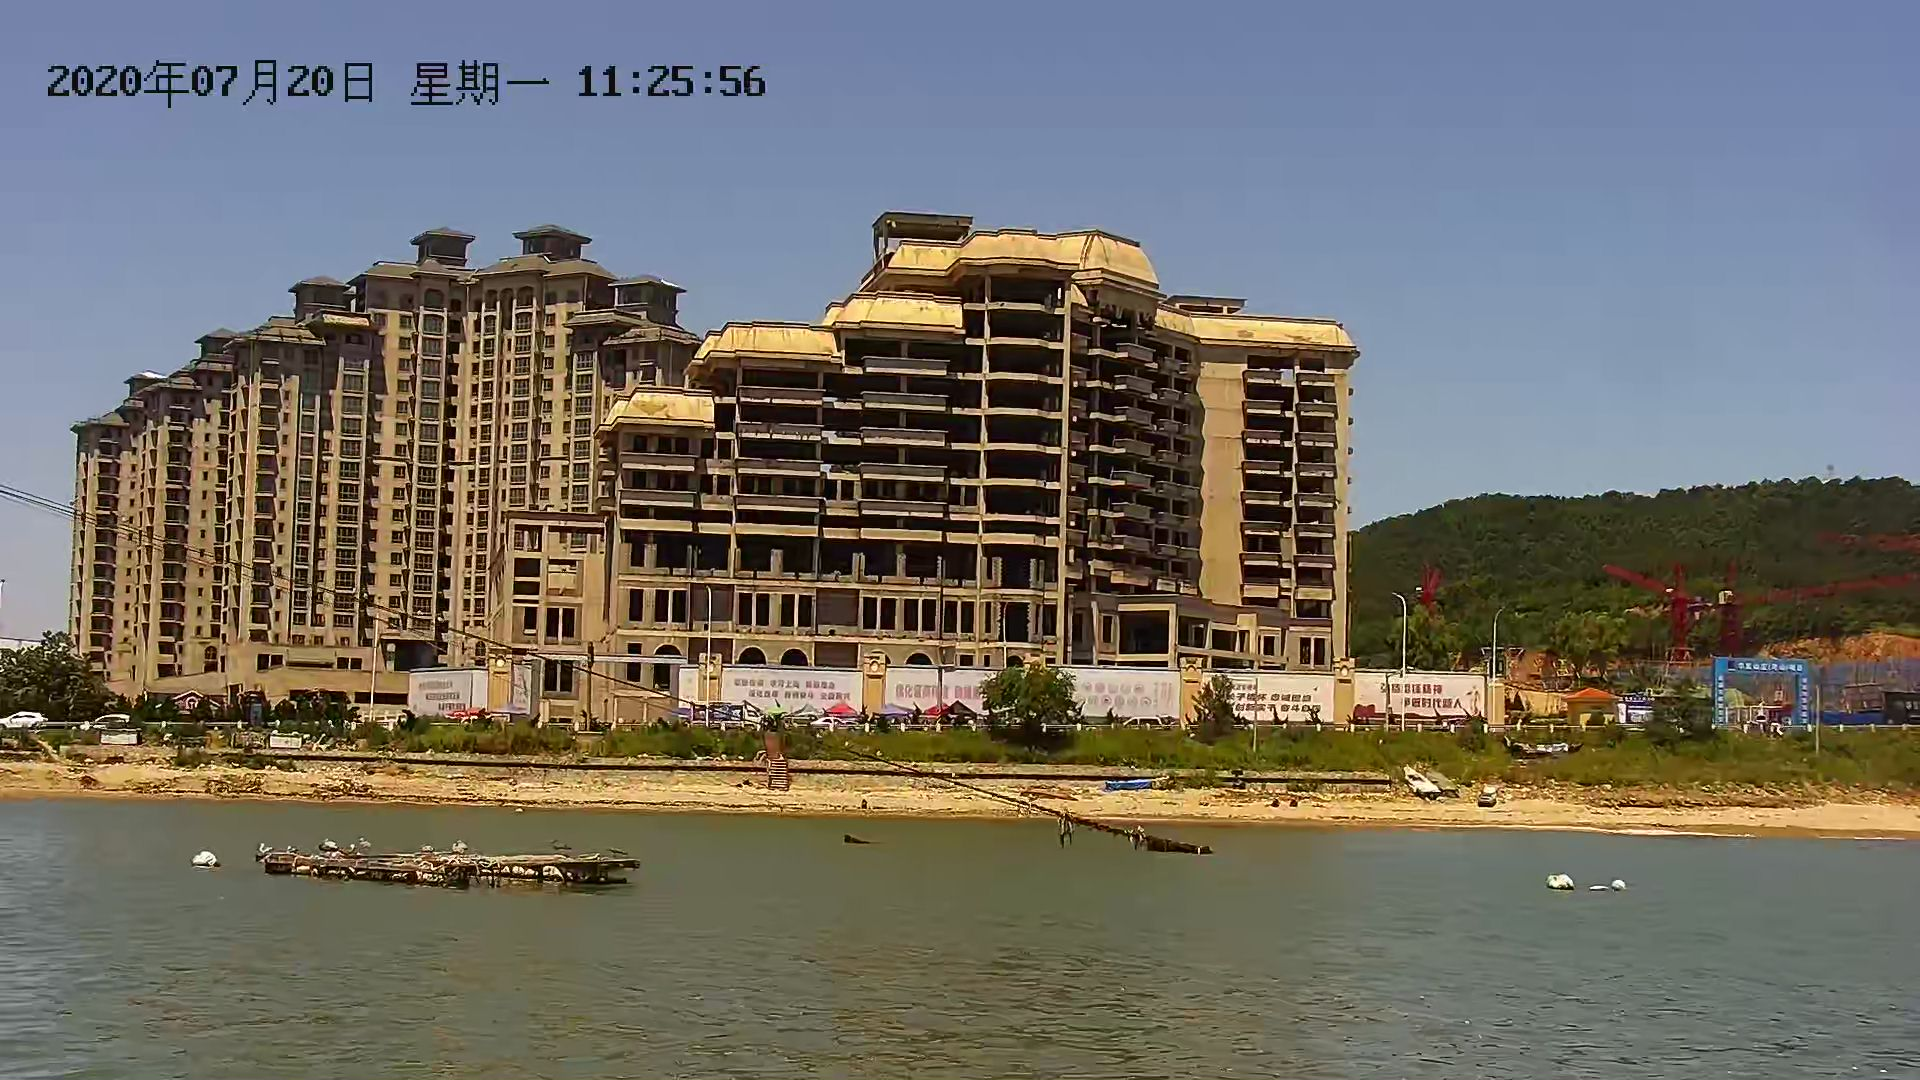platform: (251, 825, 640, 901)
rubbish: (1531, 865, 1582, 897), (1592, 868, 1638, 897), (182, 845, 225, 873)
